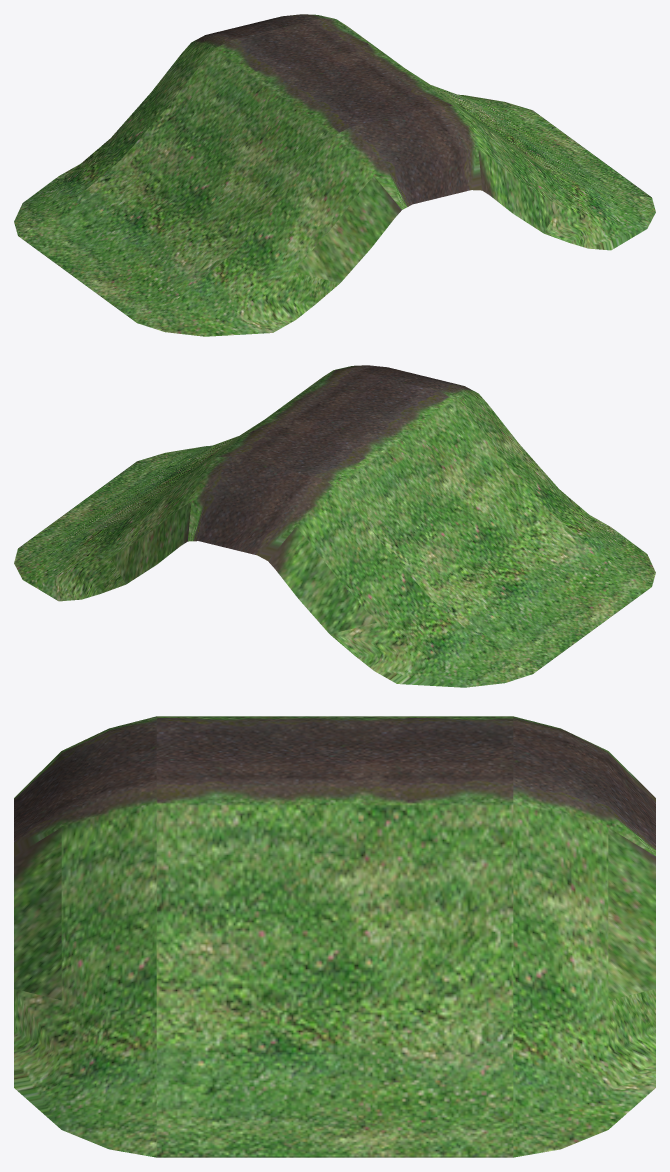
Rendered from 1nasip_15_TSM.gltf.
The picture shows the model from 3 angles, top to bottom: view 1: azimuth 30°, elevation 25°; view 2: azimuth 150°, elevation 25°; view 3: azimuth 270°, elevation 25°; orthographic projection. The views are drawn at different scales.
Size of the model in its own units: 37.47 by 10.02 by 27.
1 material, 1 textured.
